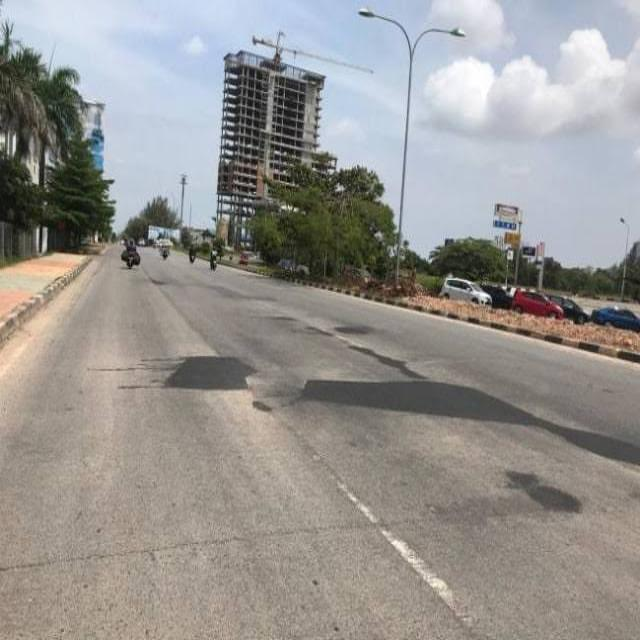Sambungan: (298, 375, 640, 469), (162, 353, 252, 394)
